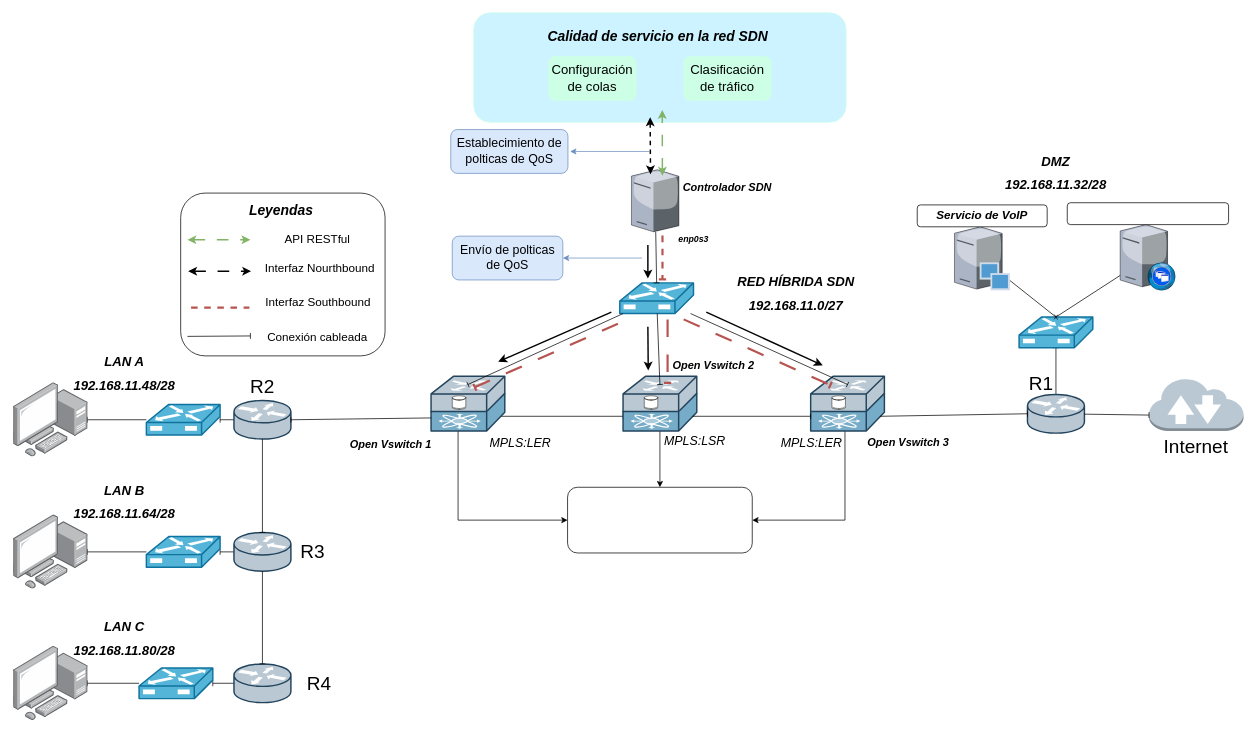
Some shapes in this 1256 by 733 pixel diagram are drawn without their labels. Each missing label, with the centre of its shape:
Colas para asegurar tráfico: VoIP | VoD FTP | Web: point (659, 520)
Servicio de VoD, FTP y Web: point (1148, 213)
